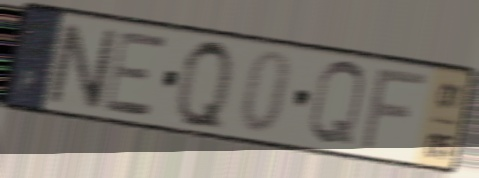0: (234, 46, 297, 140)
E: (101, 30, 169, 120)
F: (356, 67, 433, 154)
N: (45, 18, 120, 114)
Q: (174, 34, 236, 138), (305, 56, 368, 151)
